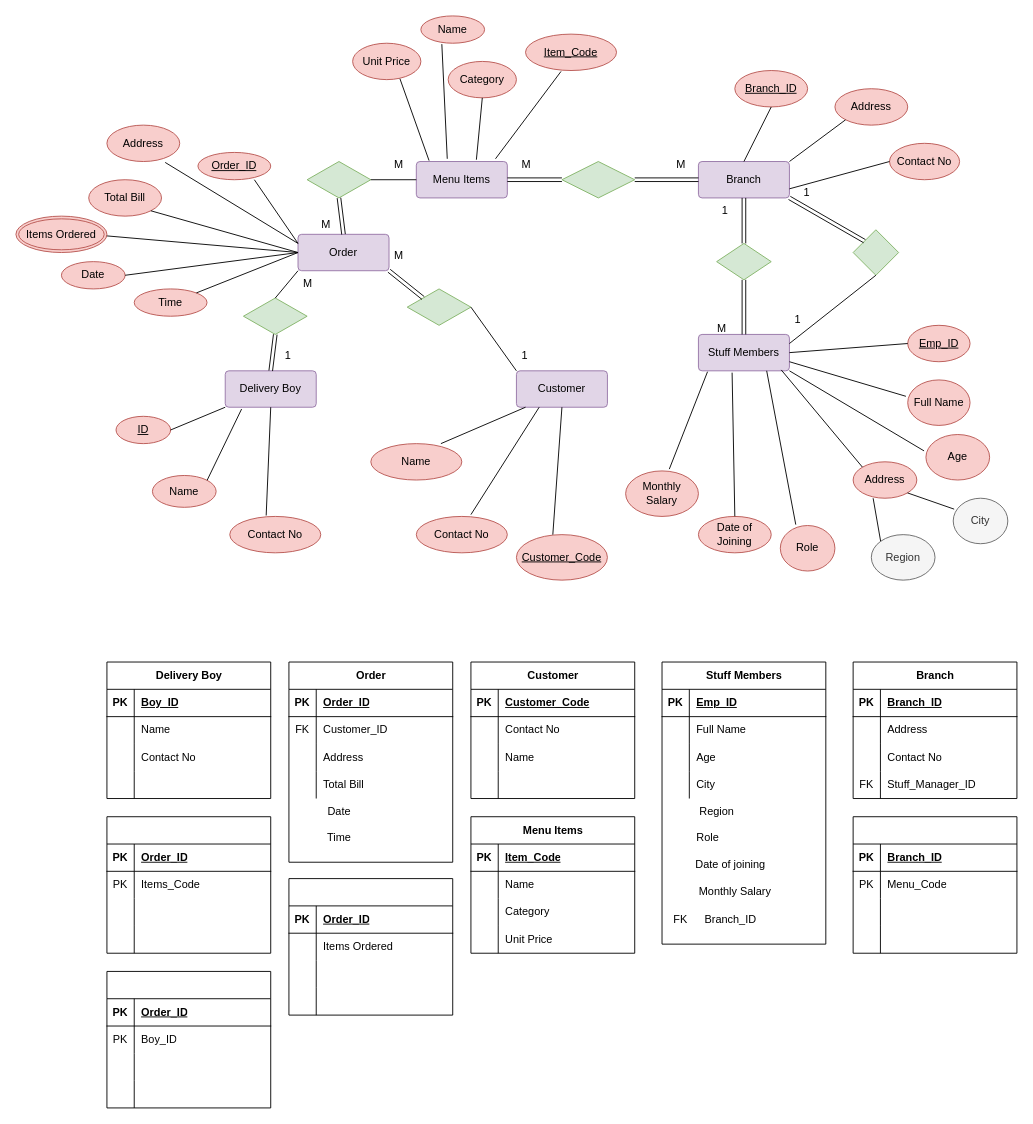
Some shapes in this 1033 by 1124 pixel diagram are drawn without their labels. The box of each missing label's shape, as (x1, y1, x2, y2) in pixels:
Deliver: (243, 297, 307, 334)
Delivery boy_Order: (106, 971, 271, 1108)
Has: (306, 161, 371, 198)
Make: (406, 288, 471, 325)
Manage: (852, 229, 899, 275)
Menu_Branch: (852, 816, 1017, 953)
Menu_Order: (106, 816, 271, 953)
Order_Items Ordered: (288, 878, 453, 1015)
Provide: (561, 161, 635, 198)
Work: (716, 243, 771, 280)
